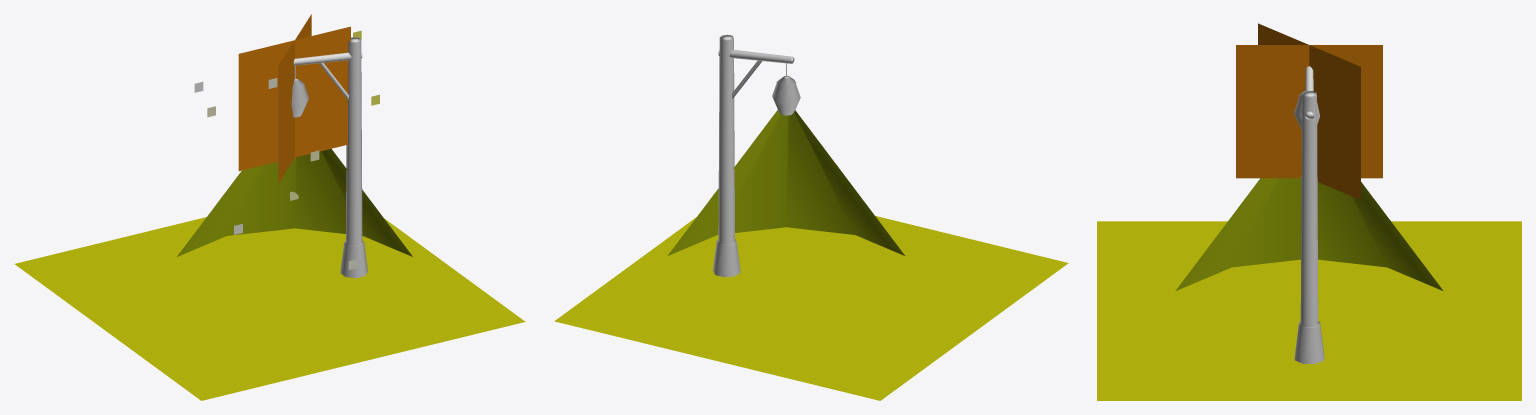
Rendered from leuchte_wald.glb.
3 renders of one model, left to right at view 1: azimuth 30°, elevation 25°; view 2: azimuth 150°, elevation 25°; view 3: azimuth 270°, elevation 25°, orthographic. The views are drawn at different scales.
Parts seen in each view (by area): view 1: leuchte_wald_lod0; view 2: leuchte_wald_lod0; view 3: leuchte_wald_lod0.
Boxes of the visible parts, x1,y1,x2,y2 form: leuchte_wald_lod0: (15, 14, 525, 400); leuchte_wald_lod0: (554, 34, 1068, 400); leuchte_wald_lod0: (1097, 23, 1521, 400).
Size of what is drawn, in the model's own units: 5.2 by 4.02 by 5.2.
